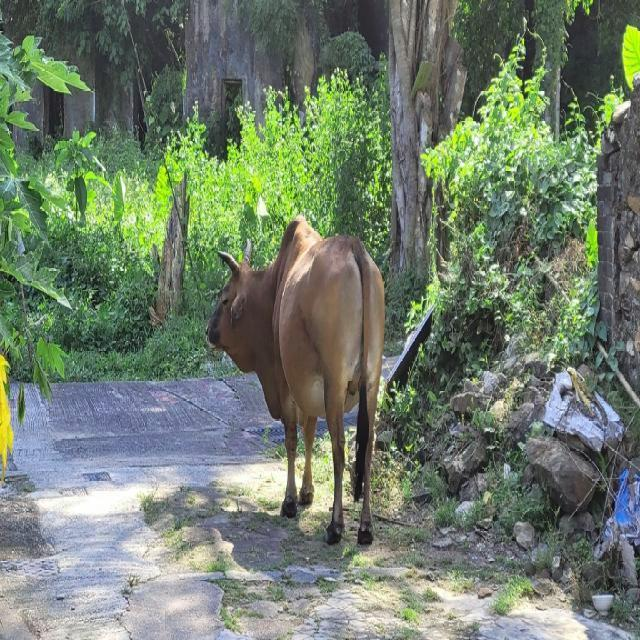cow: (208, 218, 384, 544)
